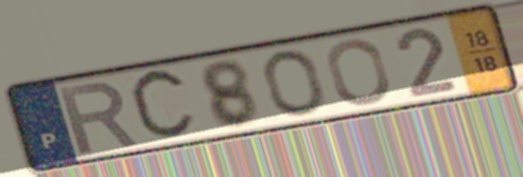2: (394, 25, 461, 100)
8: (198, 57, 263, 131)
C: (125, 64, 200, 146)
O: (323, 36, 394, 108), (260, 47, 329, 118)
R: (55, 78, 142, 157)
